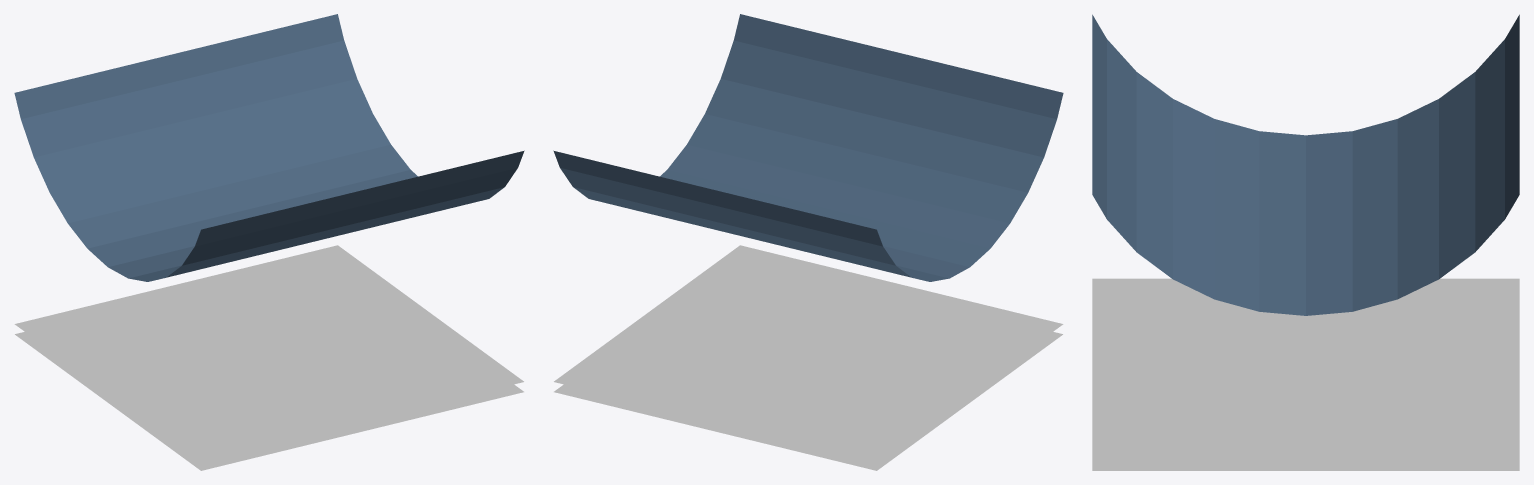
File: cell_11.obj
The picture shows the model from 3 angles, left to right: view 1: azimuth 30°, elevation 25°; view 2: azimuth 150°, elevation 25°; view 3: azimuth 270°, elevation 25°; orthographic projection. The views are drawn at different scales.
Size of the model in its own units: 1 by 0.7132 by 1.
